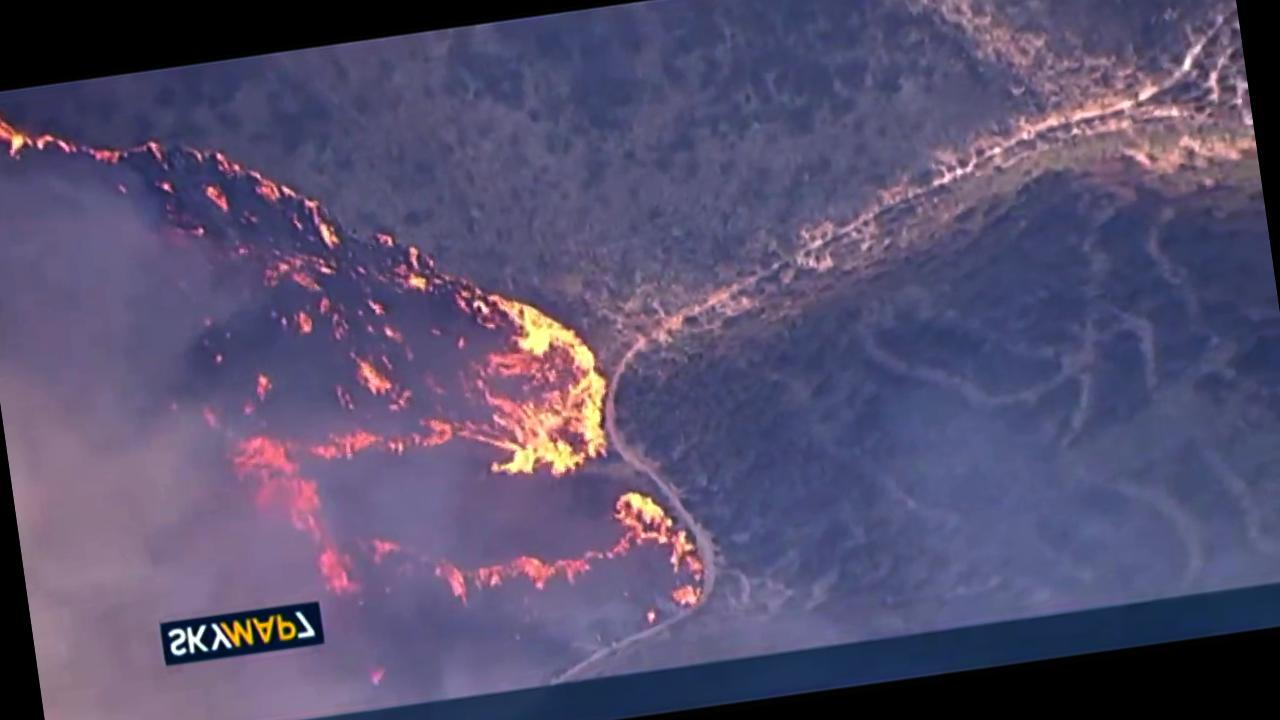fire: (210, 194, 758, 668), (0, 52, 355, 319)
smoke: (0, 151, 243, 720)
